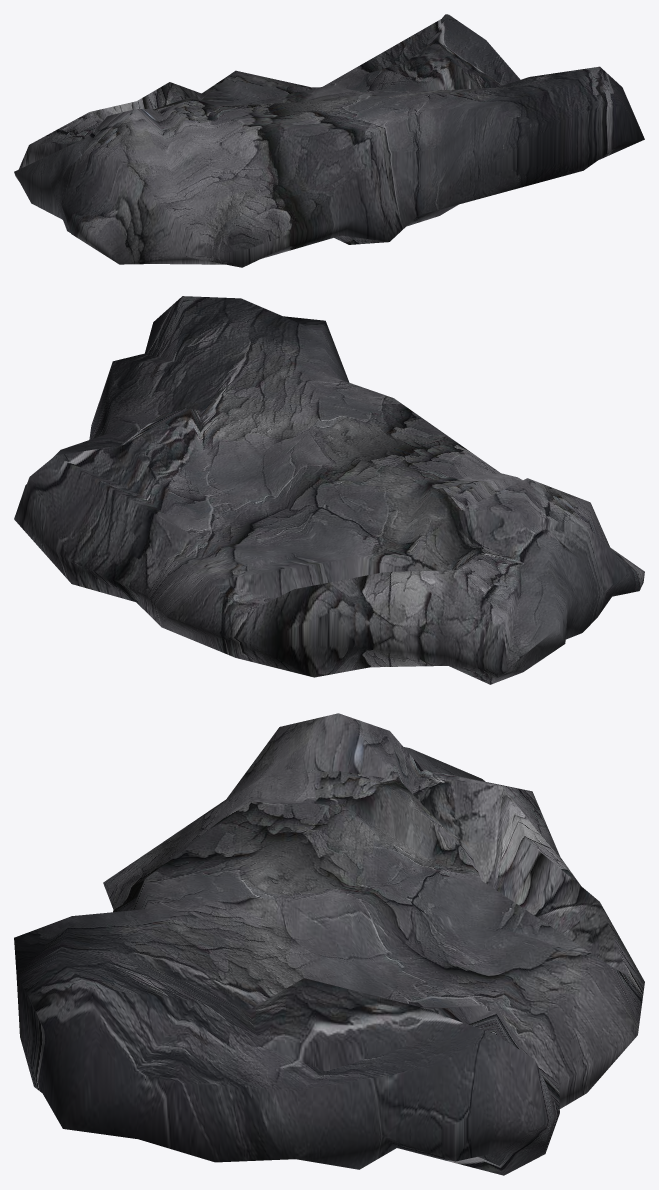
The model's file is RockWall7.fbx.
3 renders of one model, top to bottom at view 1: azimuth 30°, elevation 25°; view 2: azimuth 150°, elevation 25°; view 3: azimuth 270°, elevation 25°, orthographic. The views are drawn at different scales.
Visible parts, largest first — view 1: Куб.082; view 2: Куб.082; view 3: Куб.082.
Part boxes in pixels (x1,y1,x2,y2): Куб.082: (14, 14, 644, 267); Куб.082: (14, 296, 644, 684); Куб.082: (14, 713, 644, 1175).
Bounding box in the file's own units: 416 × 121 × 293.
